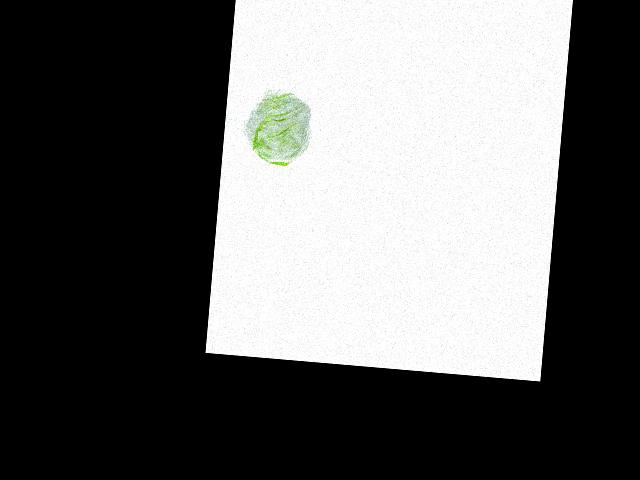lettuce: (242, 87, 311, 166)
